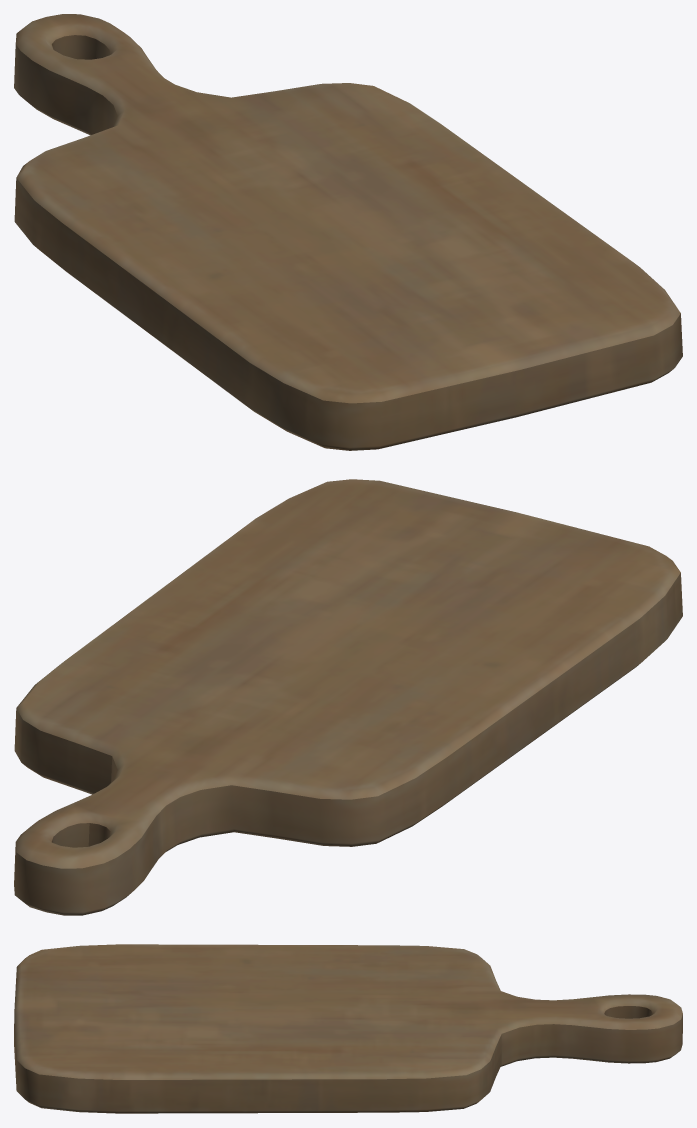
The model's file is SM_Farm_ChoppingBoard.fbx.
The picture shows the model from 3 angles, top to bottom: view 1: azimuth 30°, elevation 25°; view 2: azimuth 150°, elevation 25°; view 3: azimuth 270°, elevation 25°; orthographic projection. The views are drawn at different scales.
Visible parts, largest first — view 1: SM_Farm_ChoppingBoard_LOD0; view 2: SM_Farm_ChoppingBoard_LOD0; view 3: SM_Farm_ChoppingBoard_LOD0.
Boxes of the visible parts, x1,y1,x2,y2 form: SM_Farm_ChoppingBoard_LOD0: [14, 14, 682, 450]; SM_Farm_ChoppingBoard_LOD0: [14, 479, 682, 915]; SM_Farm_ChoppingBoard_LOD0: [14, 944, 682, 1113].
Size of the model in its own units: 34.08 by 4.63 by 71.48.
